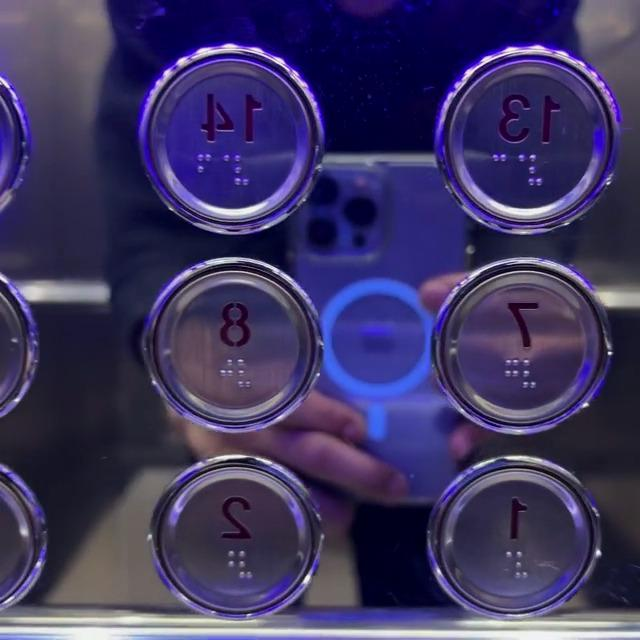button: (157, 266, 349, 433), (153, 57, 334, 225), (420, 450, 612, 600), (436, 81, 618, 226), (441, 261, 612, 405), (165, 456, 318, 613)
